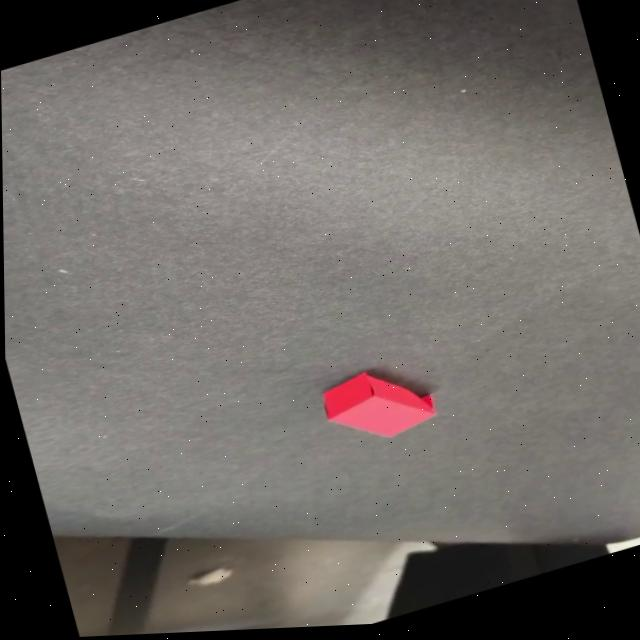red block: (316, 354, 439, 456)
